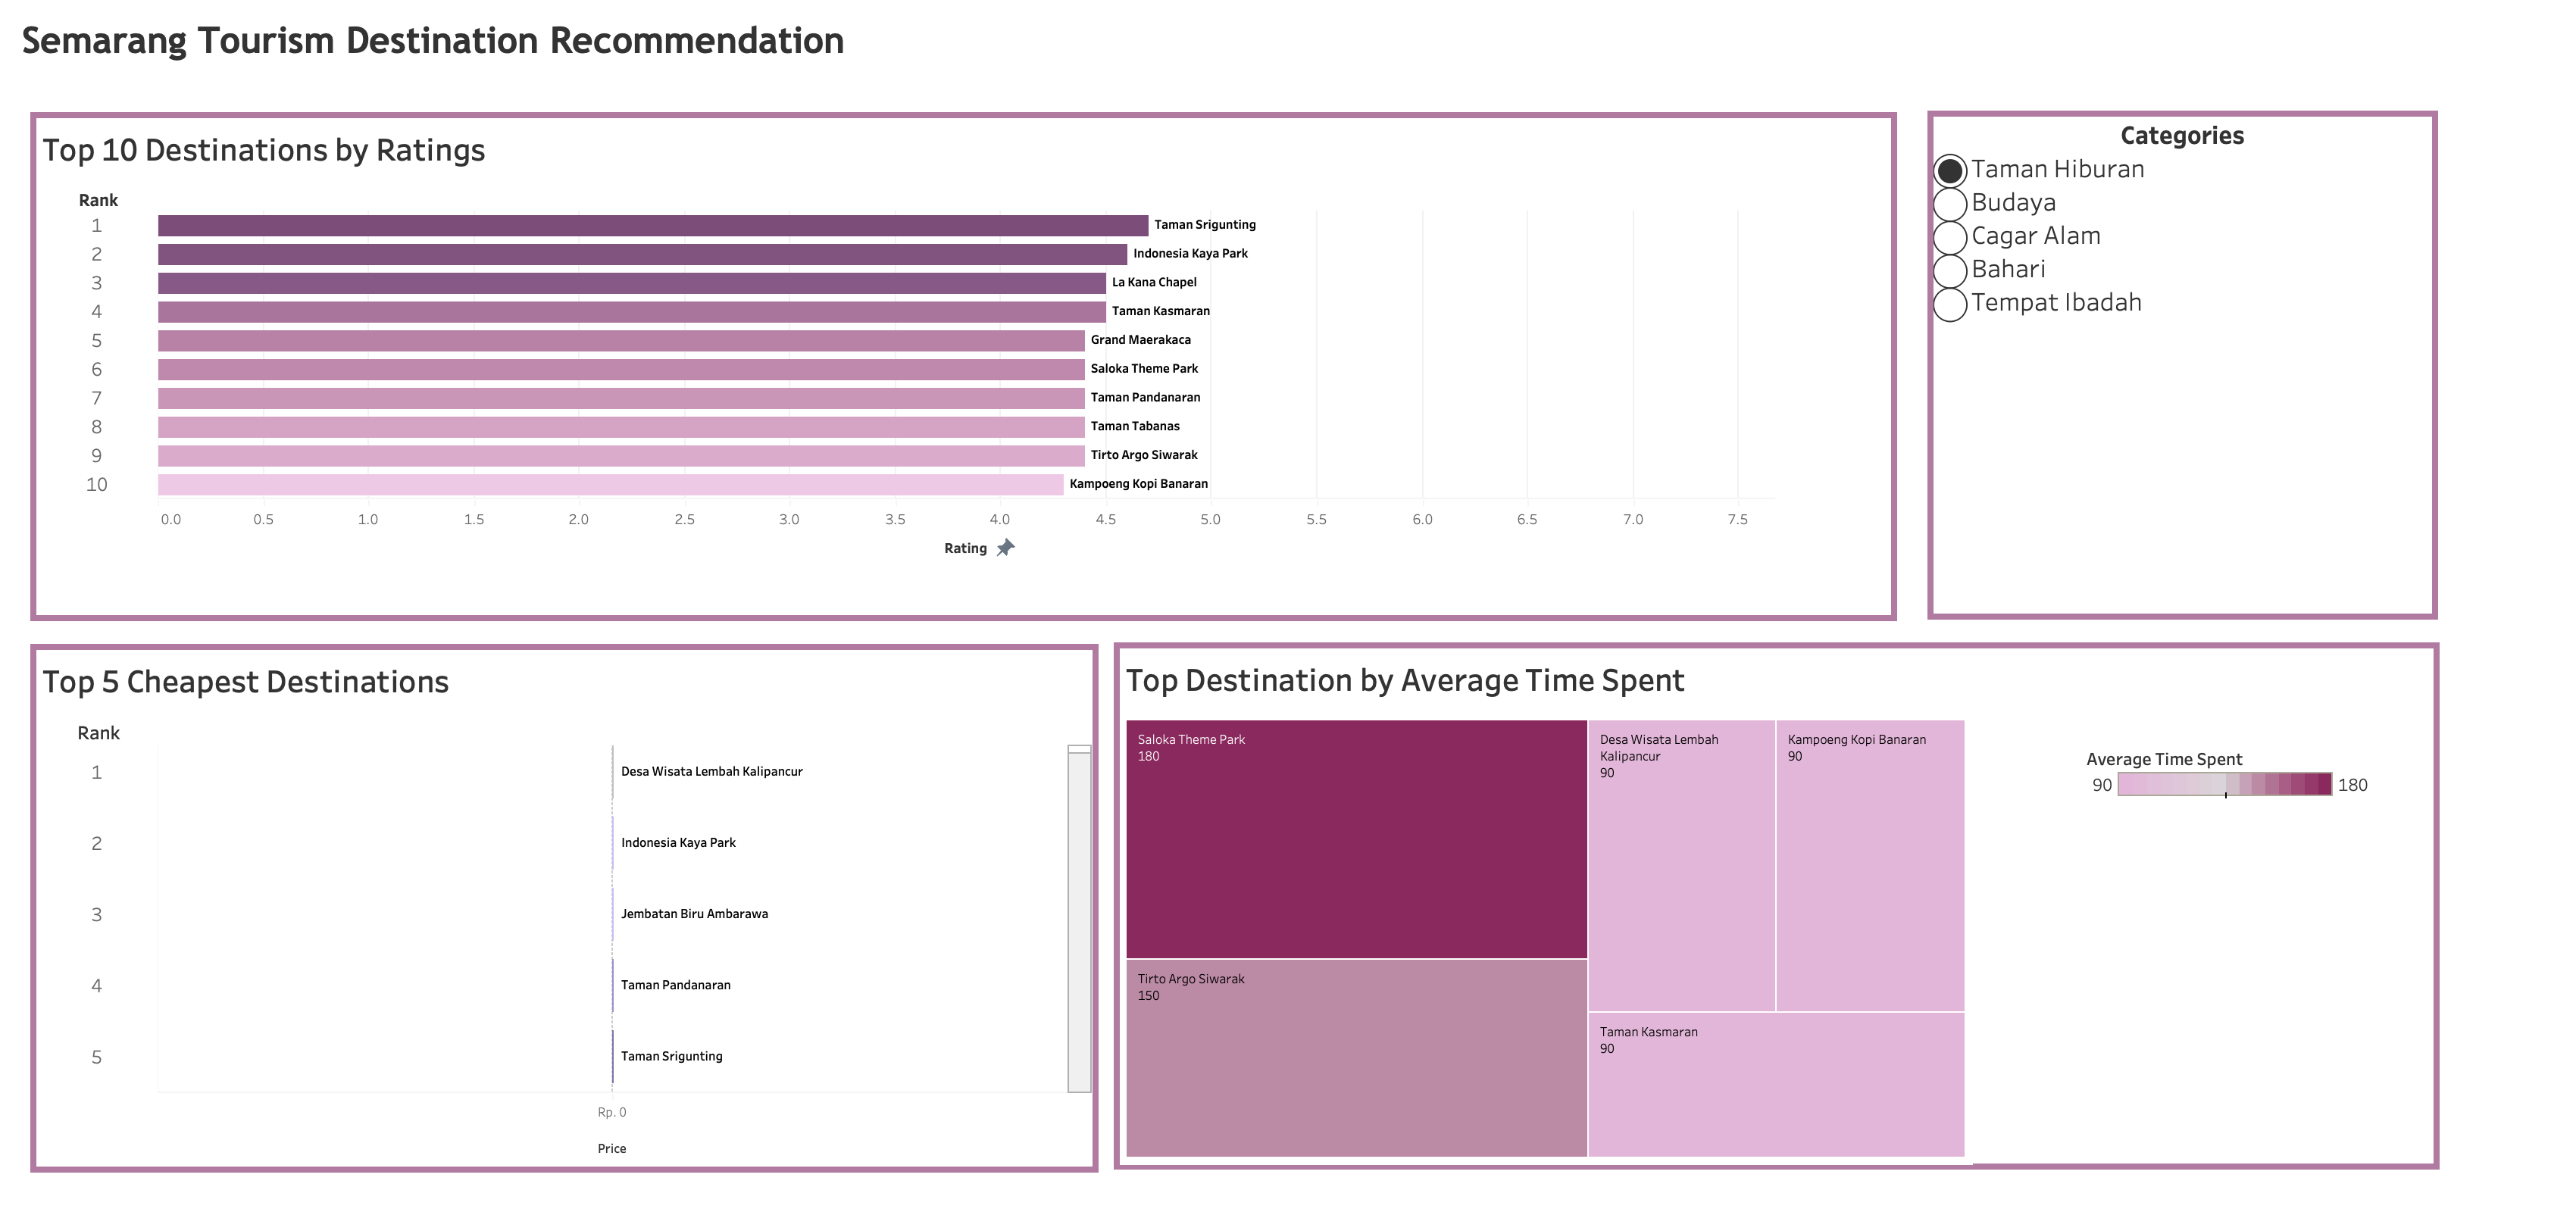

This screenshot's page, from the dashboard's own definition file:
{"tool":"tableau","page":{"name":"Dash Board Semarang","canvas":[1700,800],"ordinal":3},"visuals":[{"type":"title","box":[8,8,1684,50]},{"type":"blank","box":[60,60,542,266]},{"type":"parameter","param":"[Parameters].[Parameter 1]","box":[1272,73,337,336]},{"type":"worksheet","title":"Top Rated Places (Semarang)","mark":"Automatic","cols":["Rating"],"box":[20,74,1232,336]},{"type":"worksheet","title":"Average Time Spend (Semarang) (2)","mark":"Automatic","box":[735,424,875,348]},{"type":"worksheet","title":"Cheapest Places (Semarang)","mark":"Automatic","cols":["Price"],"box":[20,425,705,349]},{"type":"legend","title":"Average Time Spend (Semarang) (2)","param":"[federated.07echau0cc9wpq1a99yee0hrih15].[usr:Calculation_1931199867067944968:qk","box":[1377,489,191,92]}]}

Visuals, with their boxes in screenshot pixels (x1, y1, x2, y2), scaled from the page's 1700x800 canvas onto the 2576x1212 screenshot:
title: <box>12,12,2564,88</box>
blank: <box>91,91,912,494</box>
parameter: <box>1927,111,2438,620</box>
"Top Rated Places (Semarang)" worksheet: <box>30,112,1897,621</box>
"Average Time Spend (Semarang) (2)" worksheet: <box>1114,642,2440,1170</box>
"Cheapest Places (Semarang)" worksheet: <box>30,644,1099,1173</box>
"Average Time Spend (Semarang) (2)" legend: <box>2087,741,2376,880</box>
